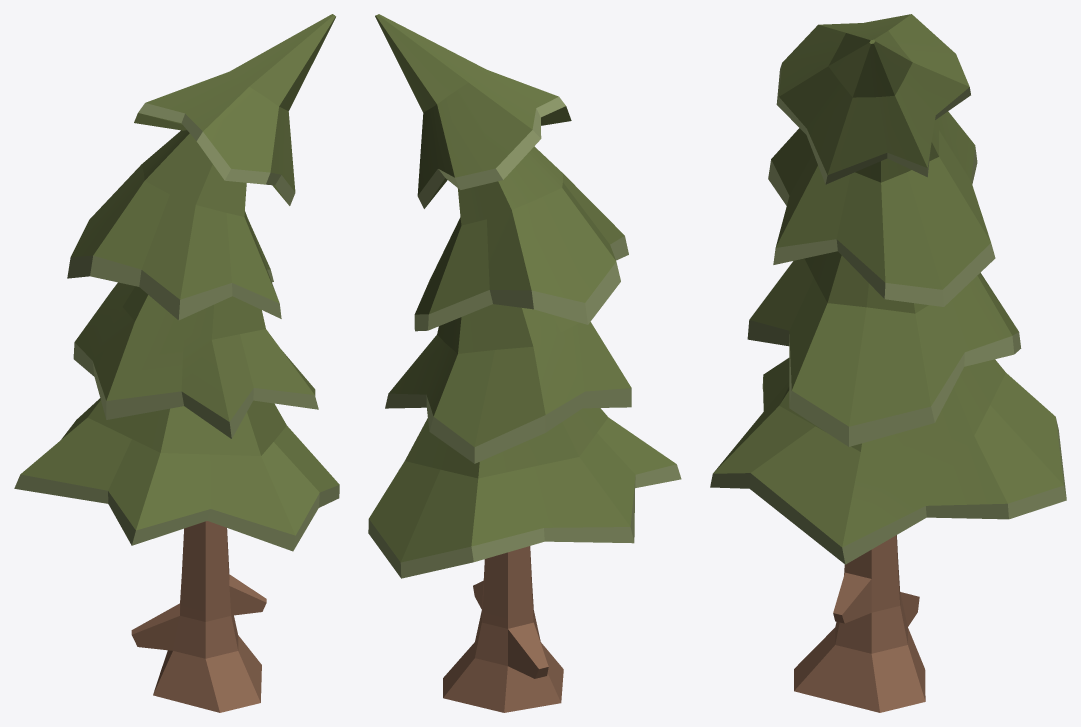
The model's file is fir_tree_33.fbx.
3 views of the same model, side by side, from view 1: azimuth 30°, elevation 25°; view 2: azimuth 150°, elevation 25°; view 3: azimuth 270°, elevation 25° (orthographic). The views are drawn at different scales.
Parts seen in each view (by area): view 1: fir_tree_33; view 2: fir_tree_33; view 3: fir_tree_33.
Part boxes in pixels (x1,y1,x2,y2): fir_tree_33: (14, 14, 339, 712); fir_tree_33: (368, 14, 681, 712); fir_tree_33: (710, 14, 1066, 712).
Bounding box in the file's own units: 282 × 594 × 270.
